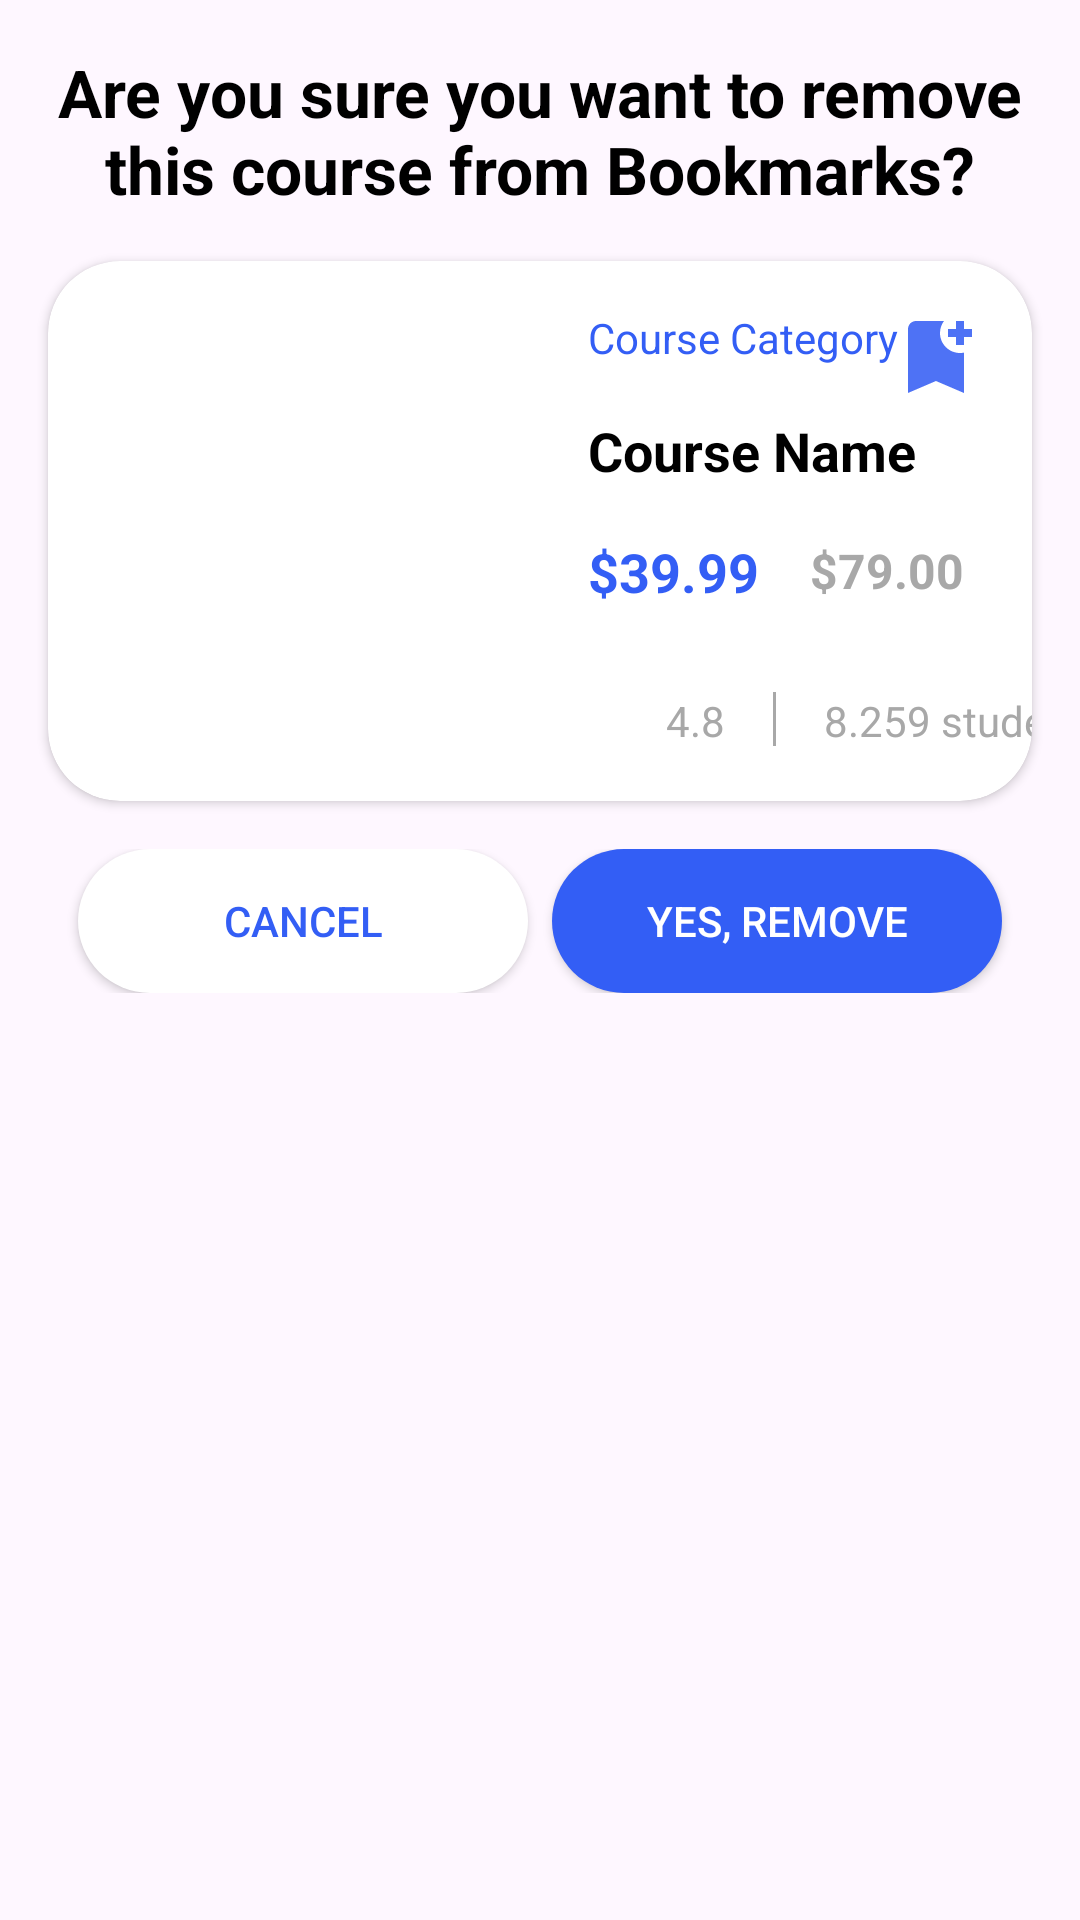

Named icons in this screenshot (1080×1920) and their bounding boxes, [x1, y1, x2, y2]:
bookmark icon: [908, 321, 972, 393]
